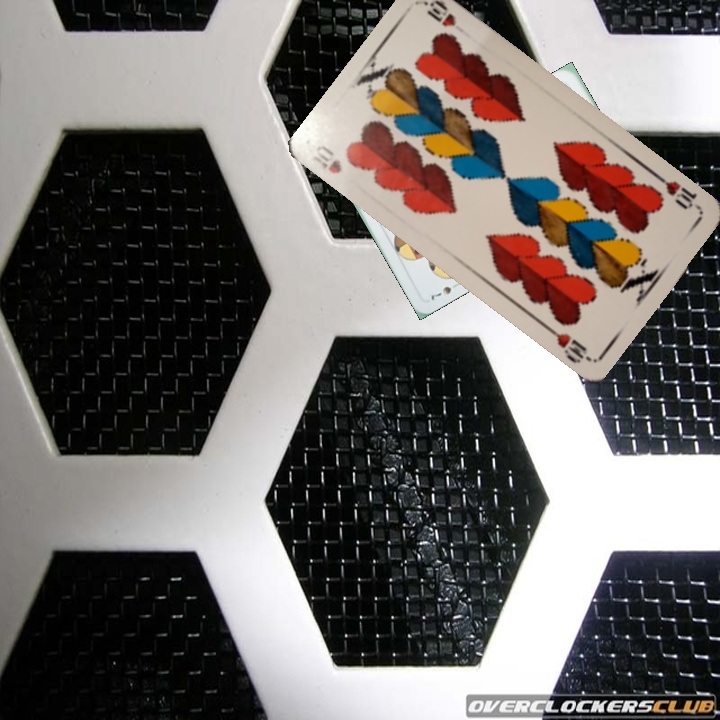H10: (653, 171, 700, 213), (308, 140, 345, 177)
S7: (427, 278, 463, 303)
